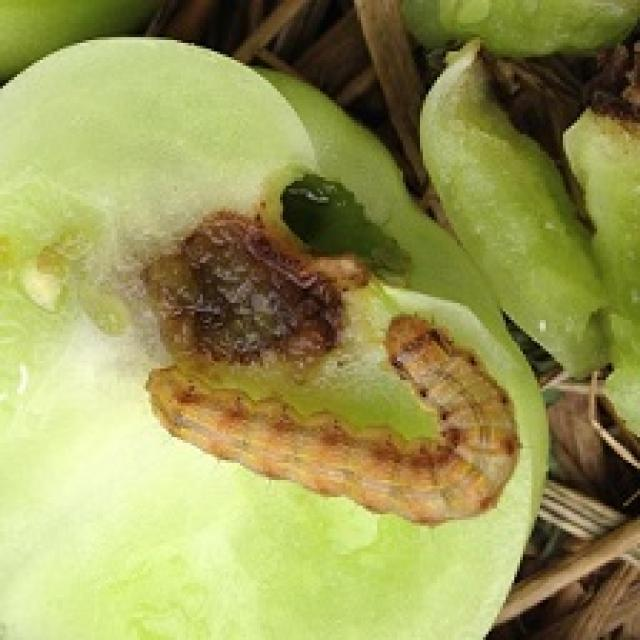Corn-earworm: (138, 311, 524, 545)
